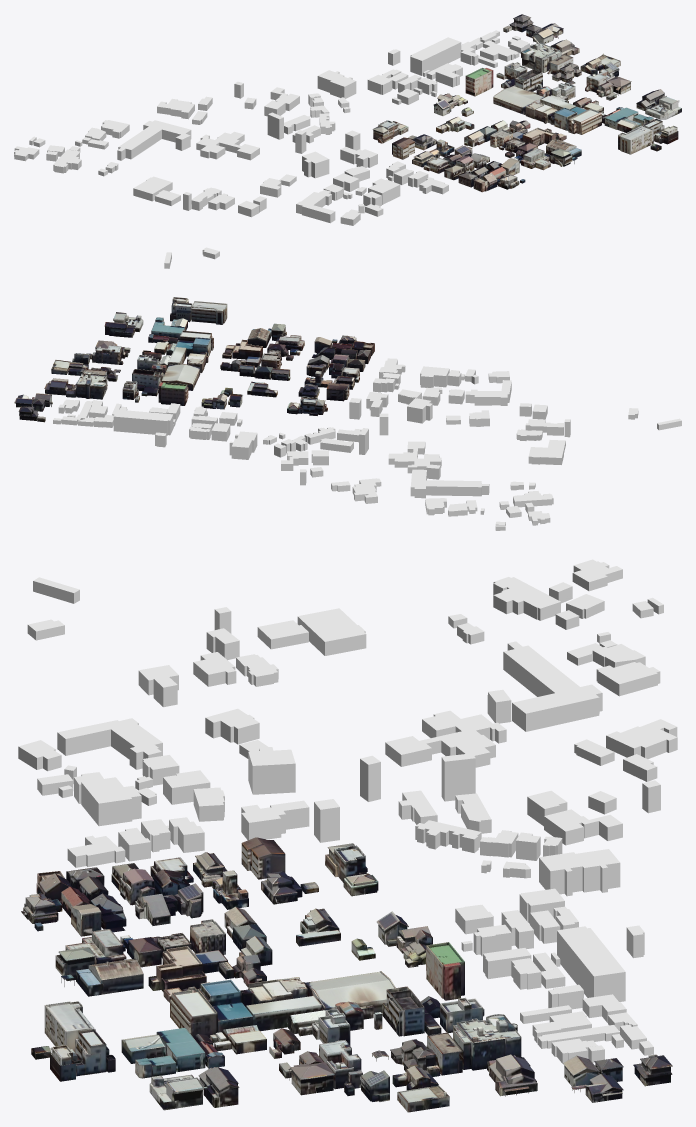
The model's file is 2023-lod3-station-2-0-packed.glb.
3 views of the same model, one above another, from view 1: azimuth 30°, elevation 25°; view 2: azimuth 150°, elevation 25°; view 3: azimuth 270°, elevation 25° (orthographic). The views are drawn at different scales.
Bounding box in the file's own units: 451 × 19.22 × 238.
Materials: 3 (2 with a texture image).
